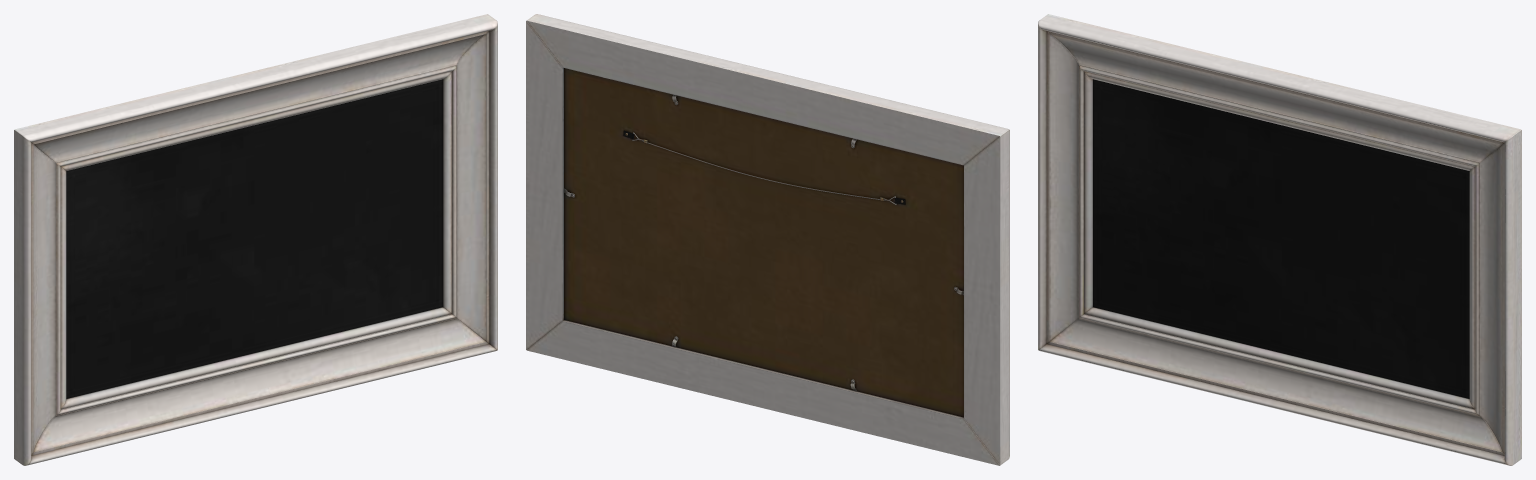
The picture shows the model from 3 angles, left to right: view 1: azimuth 30°, elevation 25°; view 2: azimuth 150°, elevation 25°; view 3: azimuth 330°, elevation 25°; orthographic projection.
Parts seen in each view (by area): view 1: hanging_picture_frame_02; view 2: hanging_picture_frame_02; view 3: hanging_picture_frame_02.
Part boxes in pixels (bbox=[...]): hanging_picture_frame_02: bbox=[14, 14, 497, 465]; hanging_picture_frame_02: bbox=[526, 14, 1009, 465]; hanging_picture_frame_02: bbox=[1038, 14, 1521, 465].
Bounding box in the file's own units: 0.7518 × 0.5 × 0.0331.
Materials: 3 (3 with a texture image).
